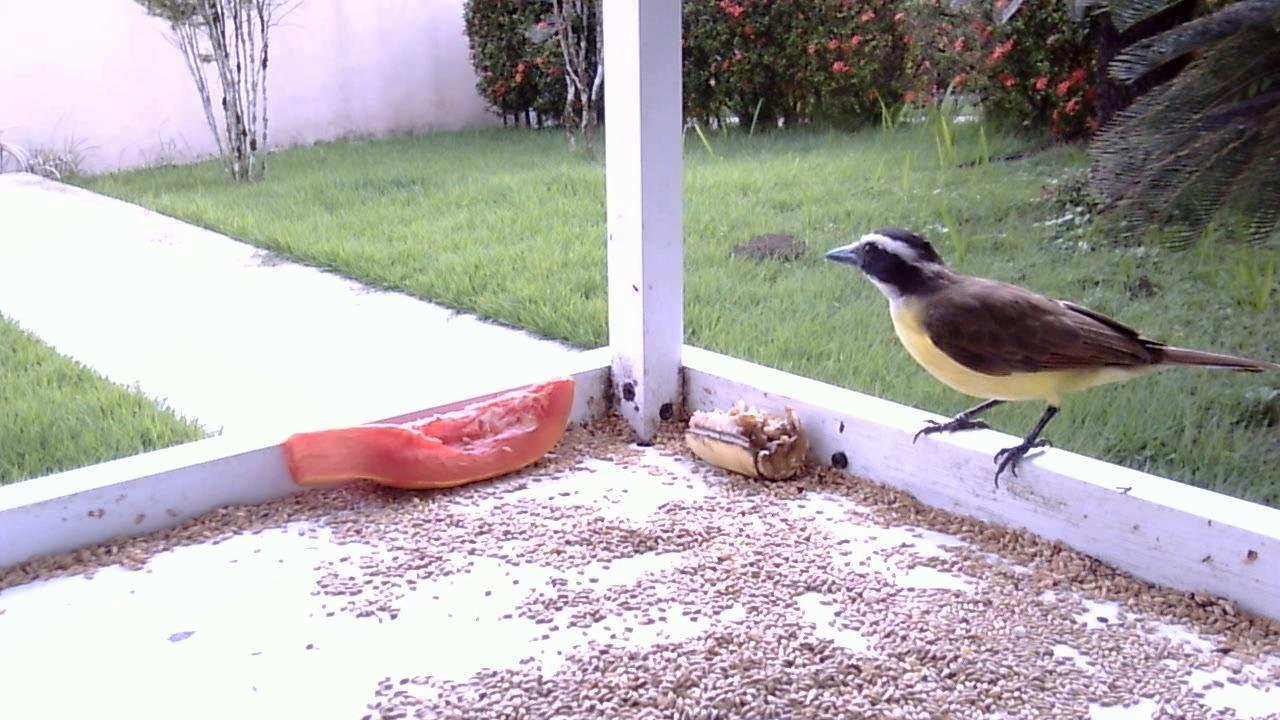bem_te_vi: (818, 217, 1274, 505)
